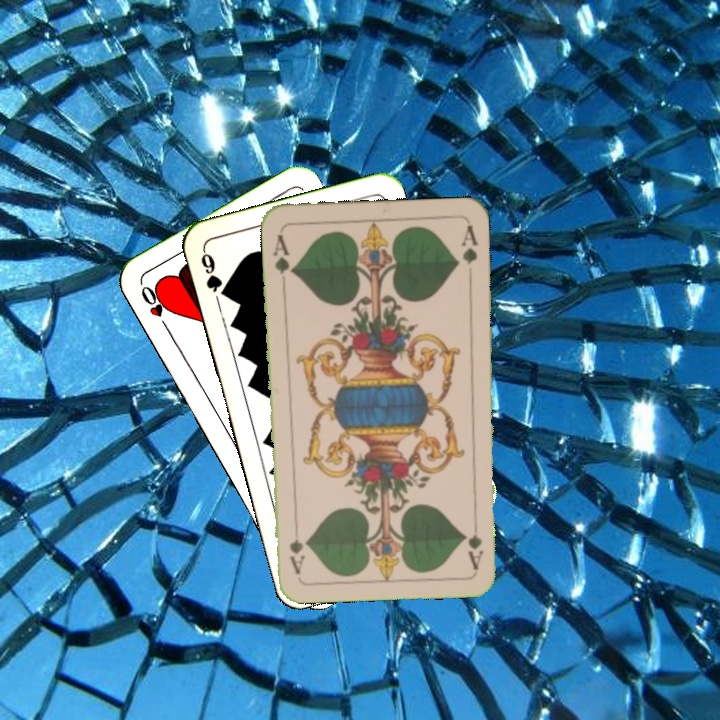G9: (196, 246, 232, 301)
GA: (464, 512, 486, 571), (269, 230, 296, 276)
HO: (136, 281, 172, 335)
